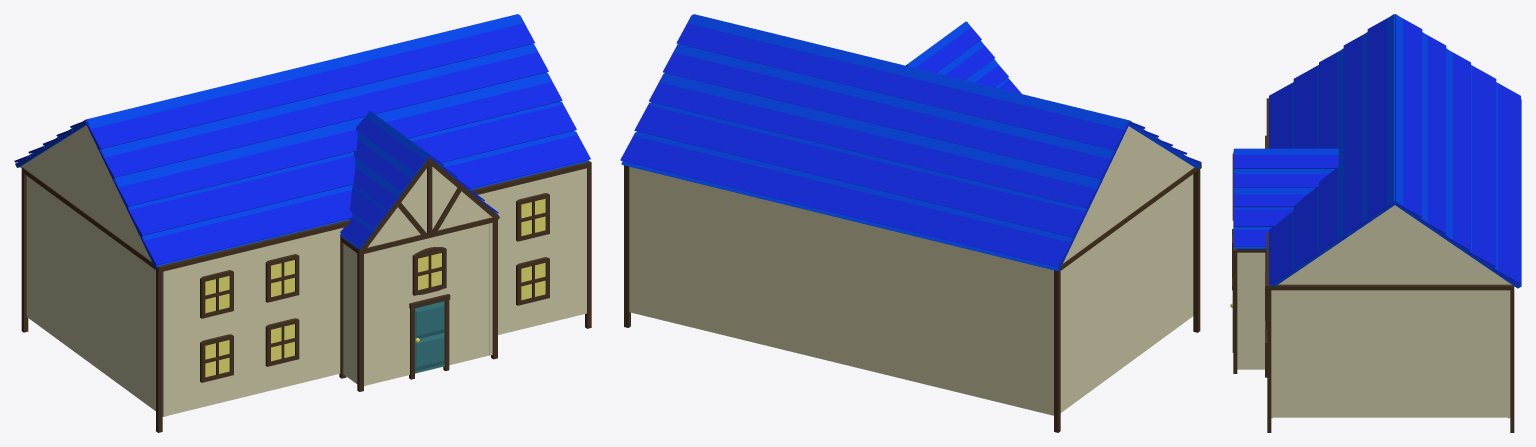
Rendered from casa.fbx.
3 views of the same model, side by side, from view 1: azimuth 30°, elevation 25°; view 2: azimuth 150°, elevation 25°; view 3: azimuth 270°, elevation 25° (orthographic). The views are drawn at different scales.
Parts seen in each view (by area): view 1: casa; view 2: casa; view 3: casa.
Part boxes in pixels (x1,y1,x2,y2): casa: (14, 14, 591, 432); casa: (620, 14, 1201, 432); casa: (1230, 14, 1521, 432).
Bounding box in the file's own units: 6164 × 3539 × 4034.
